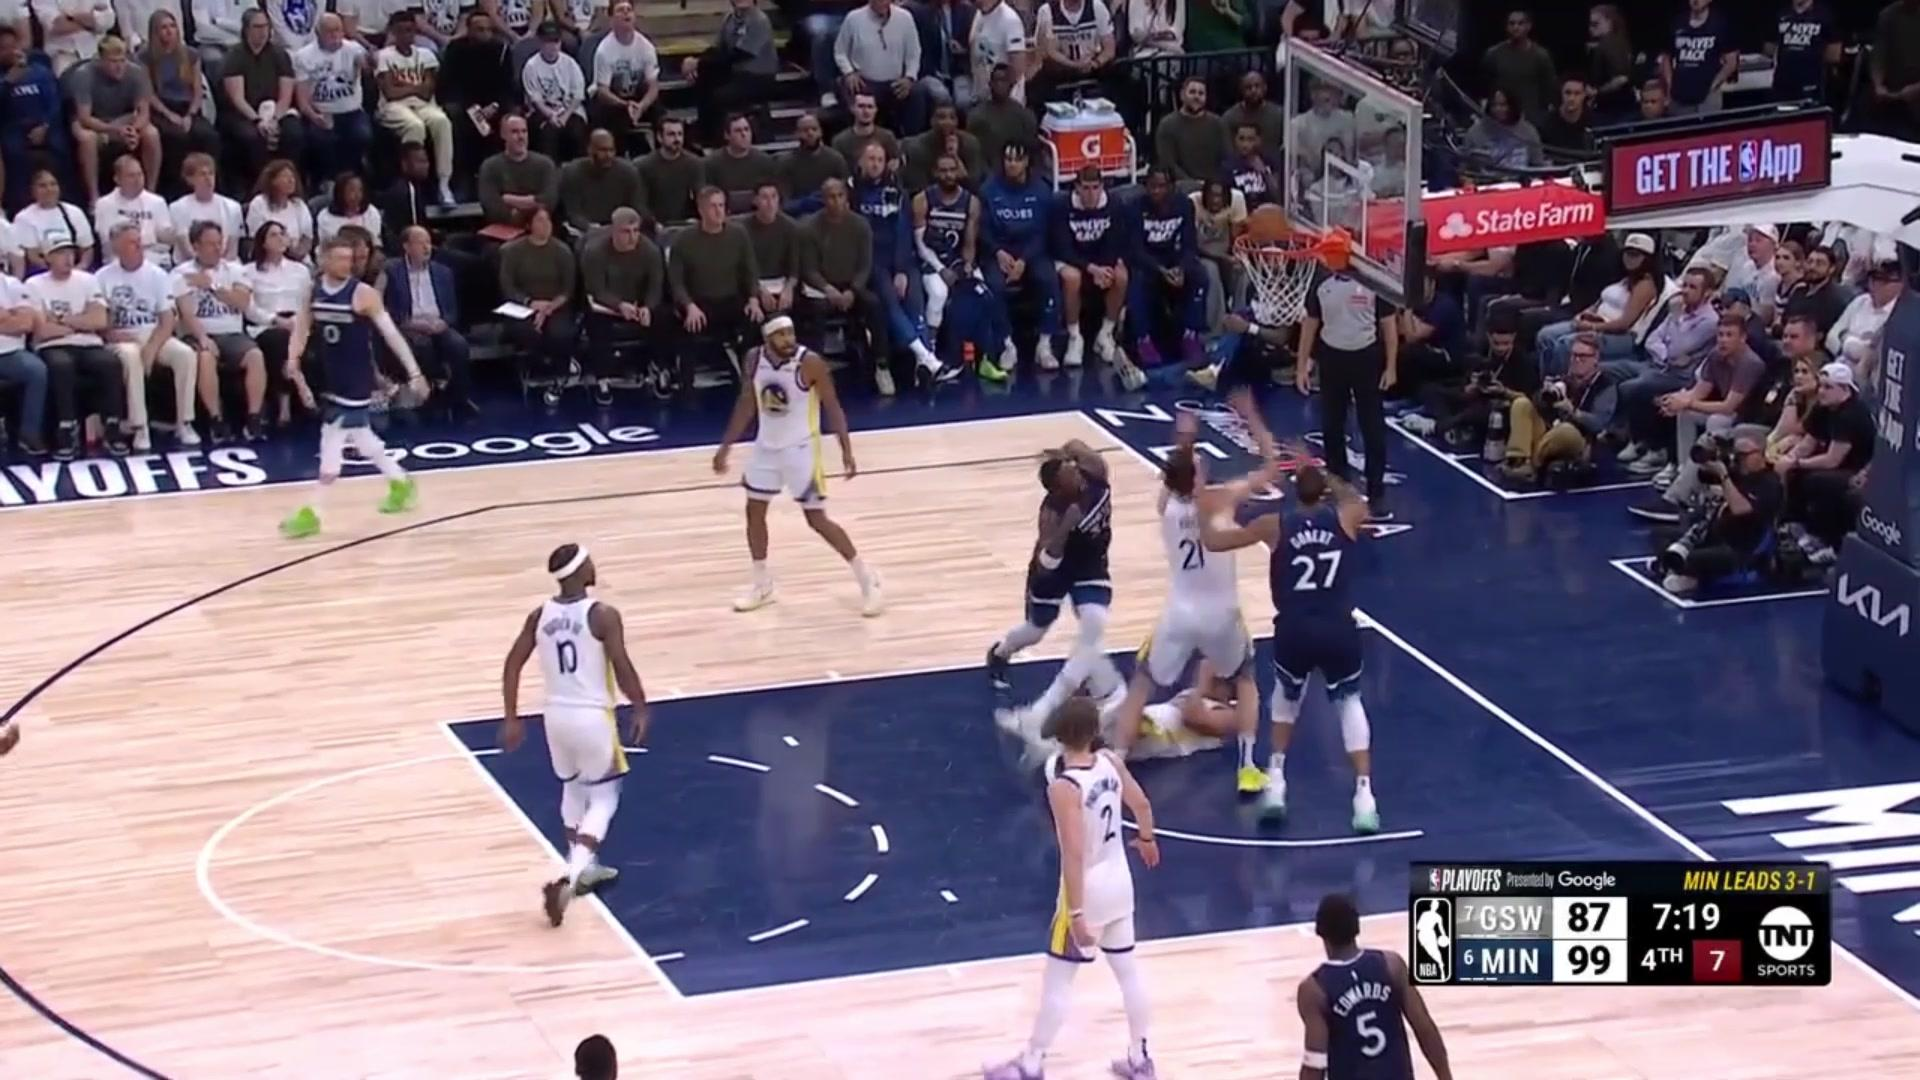foul: (985, 467, 1259, 775)
